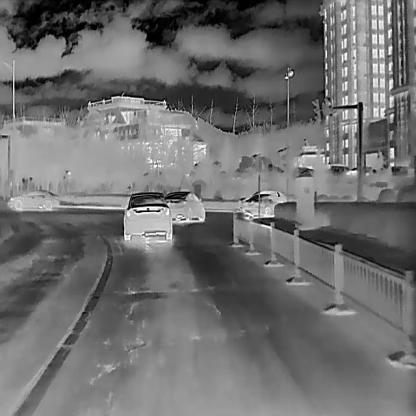car: (122, 190, 172, 240), (162, 190, 206, 222), (7, 189, 59, 212), (238, 193, 280, 218), (238, 188, 287, 206)
